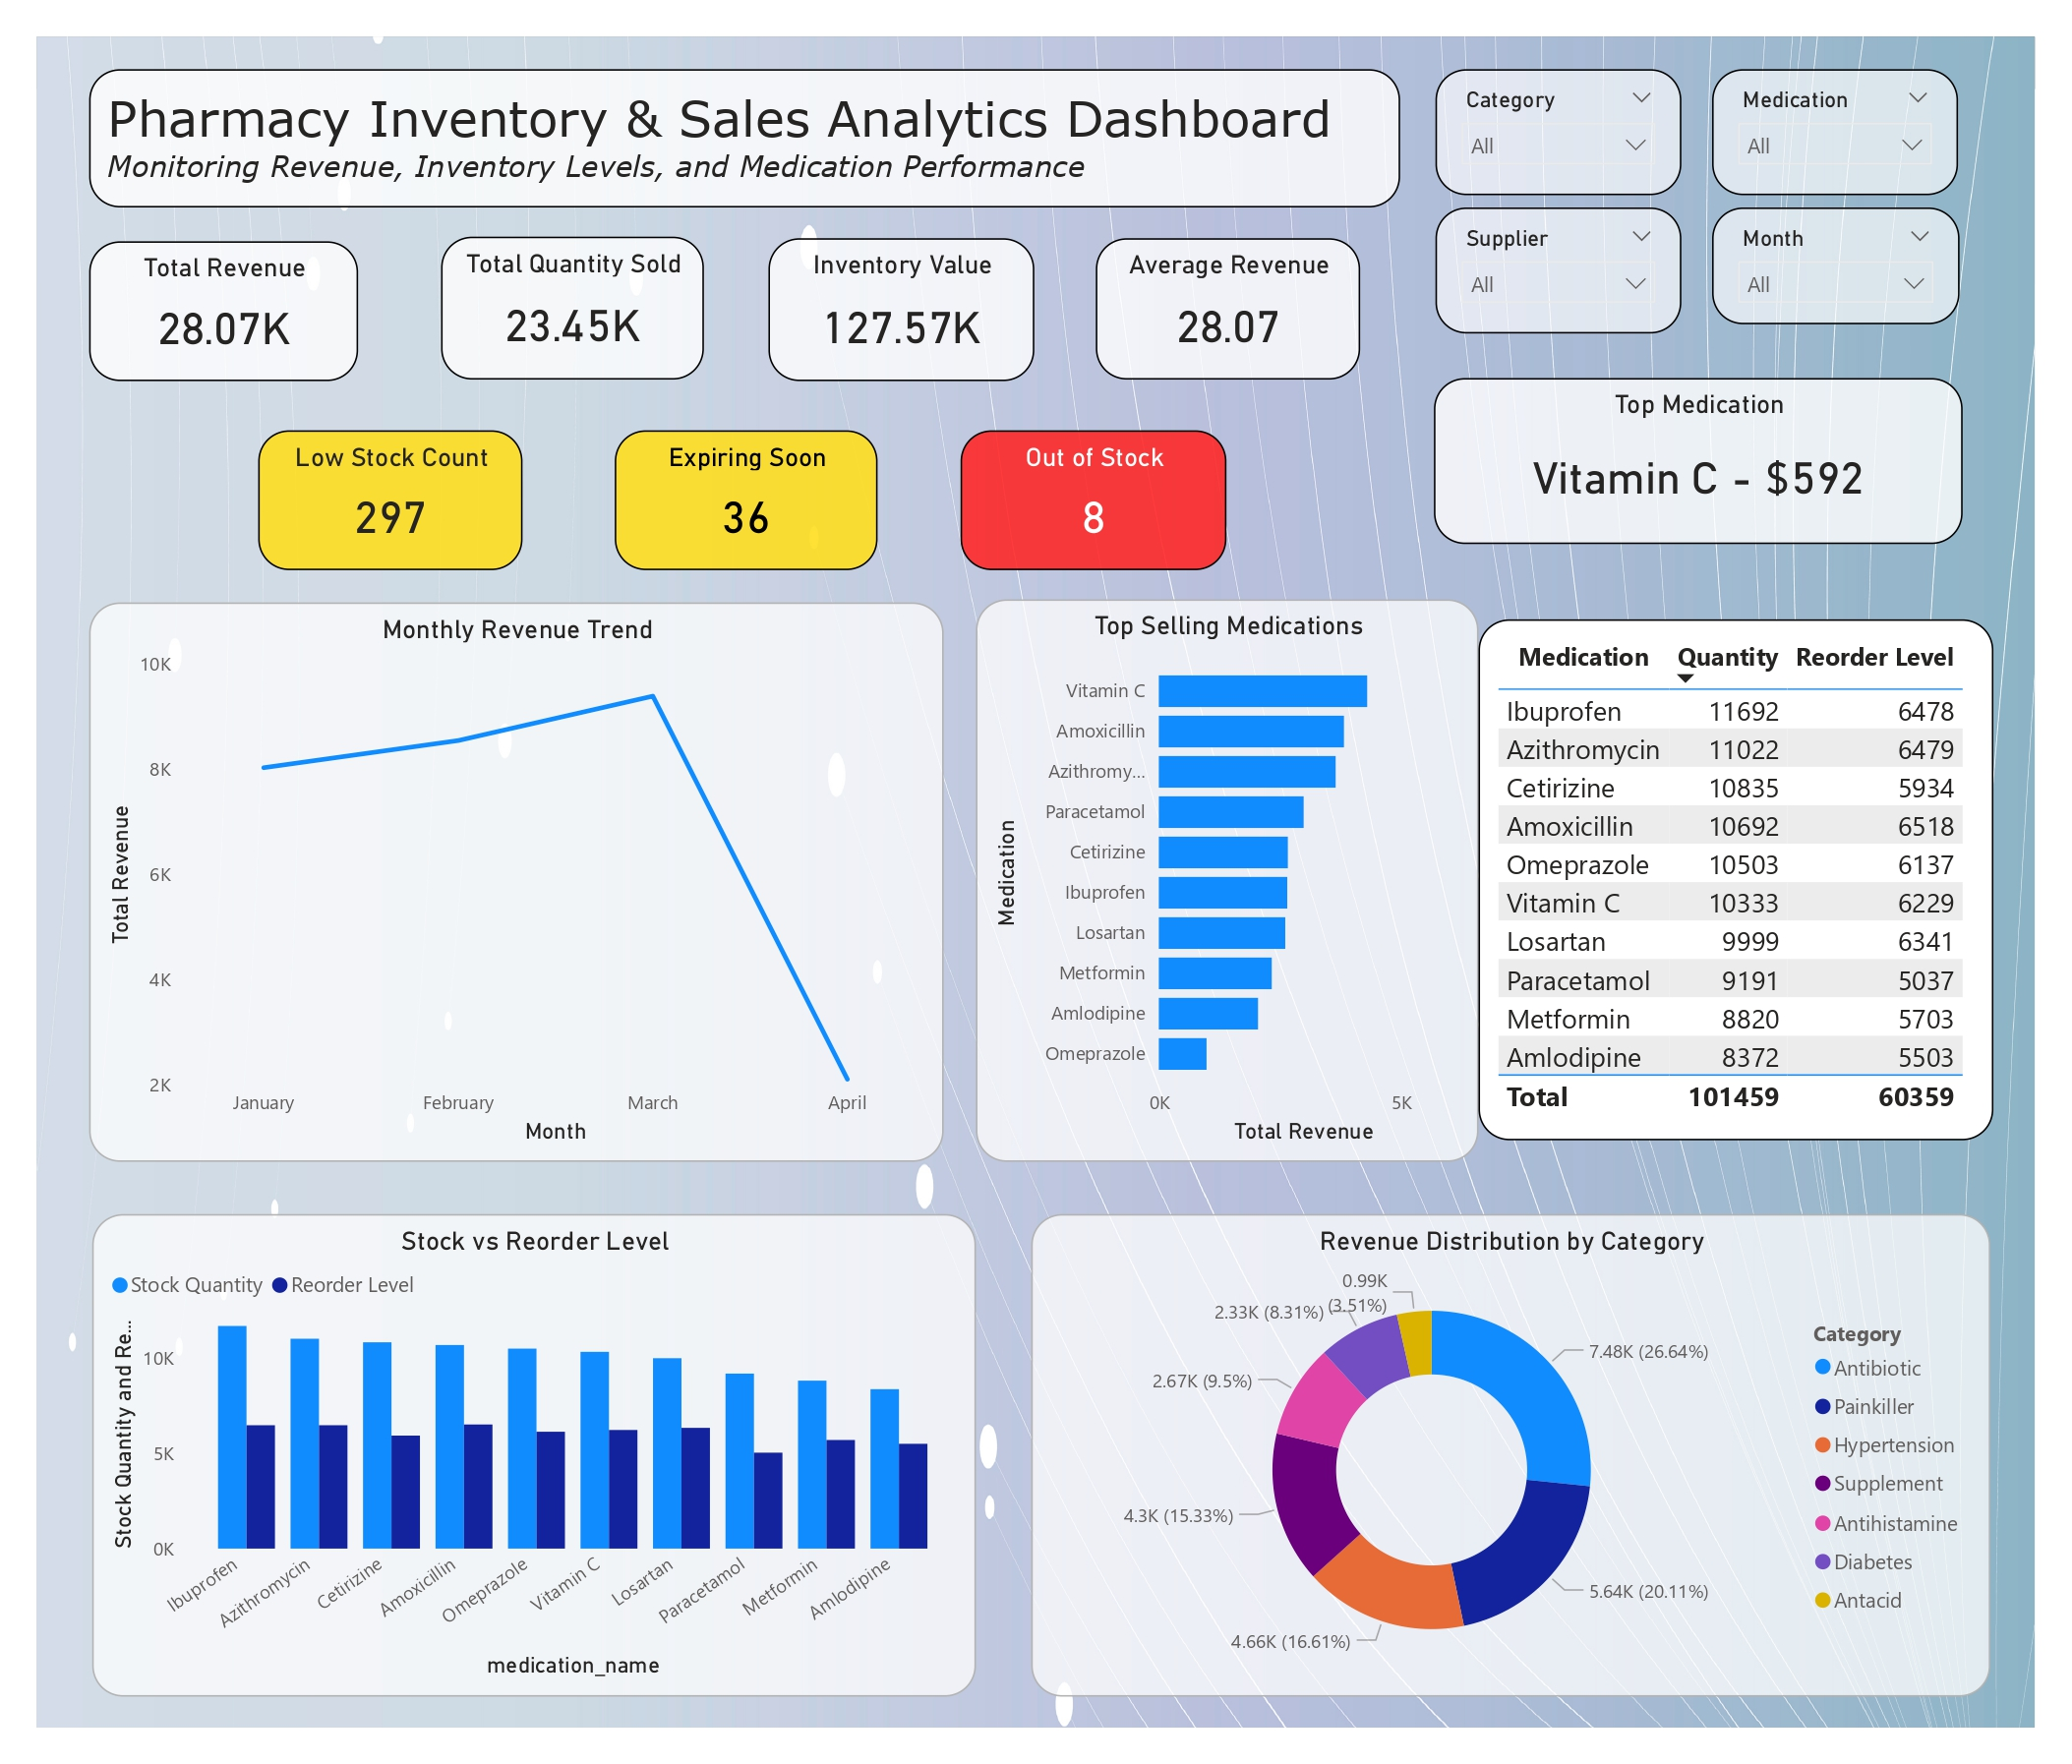

Layout of this report page (visuals, bound fields, positions):
{"tool":"powerbi","page":{"name":"Page 1","canvas":[1310,1100],"ordinal":0},"visuals":[{"type":"textbox","box":[34.3,21.4,852.9,90],"z":0},{"type":"card","title":"Total Revenue","fields":{"Values":["meds_data.Total Revenue"]},"box":[34.3,132.9,174.3,91.4],"z":1000},{"type":"card","title":"Average Revenue","fields":{"Values":["meds_data.Avg Revenue"]},"box":[688.6,131.4,172.9,91.4],"z":2000},{"type":"card","title":"Inventory Value","fields":{"Values":["meds_data.Inventory Value"]},"box":[475.7,131.4,172.9,92.9],"z":3000},{"type":"card","title":"Total Quantity Sold","fields":{"Values":["meds_data.Total Quantity Sold"]},"box":[262.9,130,171.4,92.9],"z":4000},{"type":"card","title":"Low Stock Count","fields":{"Values":["meds_data.Low Stock Count"]},"box":[121.6,240.5,173,91.9],"z":5000},{"type":"card","title":"Expiring Soon","fields":{"Values":["meds_data.Expiring Soon"]},"box":[417.8,240,172.2,92.2],"z":6000},{"type":"card","title":"Out of Stock","fields":{"Values":["meds_data.Out of Stock"]},"box":[702.7,240.5,173,91.9],"z":7000},{"type":"card","title":"Top Medication","fields":{"Values":["meds_data.Top Medication Label"]},"box":[938.9,214.4,343.3,117.8],"z":8000},{"type":"lineChart","title":"Monthly Revenue Trend","fields":{"Category":["sales_data.sale_date.Variation.Date Hierarchy.Month"],"Y":["meds_data.Total Revenue"]},"box":[33.7,348,556.7,383.9],"z":9000},{"type":"clusteredBarChart","title":"Top Selling Medications ","fields":{"Category":["meds_data.medication_name"],"Y":["meds_data.Total Revenue"]},"box":[610.6,348,327.8,339],"z":10000},{"type":"donutChart","title":"Revenue Distribution by Category","fields":{"Category":["meds_data.category"],"Y":["meds_data.Total Revenue"]},"box":[628.6,713.9,664.5,365.9],"z":11000},{"type":"clusteredColumnChart","title":"Stock vs Reorder Level","fields":{"Category":["meds_data.medication_name"],"Y":["Sum(meds_data.stock_quantity)","Sum(meds_data.reorder_level)"]},"box":[35.9,749.8,574.7,330],"z":12000},{"type":"tableEx","fields":{"Values":["meds_data.medication_name","Sum(meds_data.stock_quantity)","Sum(meds_data.reorder_level)"]},"box":[958.6,348,334.5,339],"z":13000},{"type":"slicer","fields":{"Values":["meds_data.category"]},"box":[929.7,21.6,160.8,81.1],"z":14000},{"type":"slicer","fields":{"Values":["meds_data.medication_name"]},"box":[1121.6,21.6,159.5,81.1],"z":15000},{"type":"slicer","fields":{"Values":["meds_data.supplier"]},"box":[929.7,112.2,160.8,81.1],"z":16000},{"type":"slicer","fields":{"Values":["sales_data.sale_date.Variation.Date Hierarchy.Month"]},"box":[1120.3,112.2,160.8,81.1],"z":17000}]}

Visuals, with their boxes in screenshot pixels (x1, y1, x2, y2), scaled from the page's 1310x1100 canvas onto the 2072x1764 screenshot:
textbox: (left=54, top=34, right=1403, bottom=179)
"Total Revenue" card: (left=54, top=213, right=330, bottom=360)
"Average Revenue" card: (left=1090, top=210, right=1363, bottom=357)
"Inventory Value" card: (left=752, top=210, right=1026, bottom=360)
"Total Quantity Sold" card: (left=416, top=208, right=687, bottom=358)
"Low Stock Count" card: (left=193, top=385, right=466, bottom=533)
"Expiring Soon" card: (left=661, top=384, right=933, bottom=533)
"Out of Stock" card: (left=1111, top=385, right=1385, bottom=533)
"Top Medication" card: (left=1485, top=344, right=2028, bottom=533)
"Monthly Revenue Trend" lineChart: (left=53, top=559, right=934, bottom=1174)
"Top Selling Medications " clusteredBarChart: (left=966, top=559, right=1484, bottom=1101)
"Revenue Distribution by Category" donutChart: (left=994, top=1145, right=2045, bottom=1732)
"Stock vs Reorder Level" clusteredColumnChart: (left=57, top=1203, right=966, bottom=1732)
tableEx - meds_data.medication_name x Sum(meds_data.stock_quantity): (left=1516, top=559, right=2045, bottom=1101)
slicer - meds_data.category: (left=1470, top=34, right=1725, bottom=164)
slicer - meds_data.medication_name: (left=1774, top=34, right=2027, bottom=164)
slicer - meds_data.supplier: (left=1470, top=180, right=1725, bottom=310)
slicer - sales_data.sale_date.Variation.Date Hierarchy.Month: (left=1772, top=180, right=2027, bottom=310)
